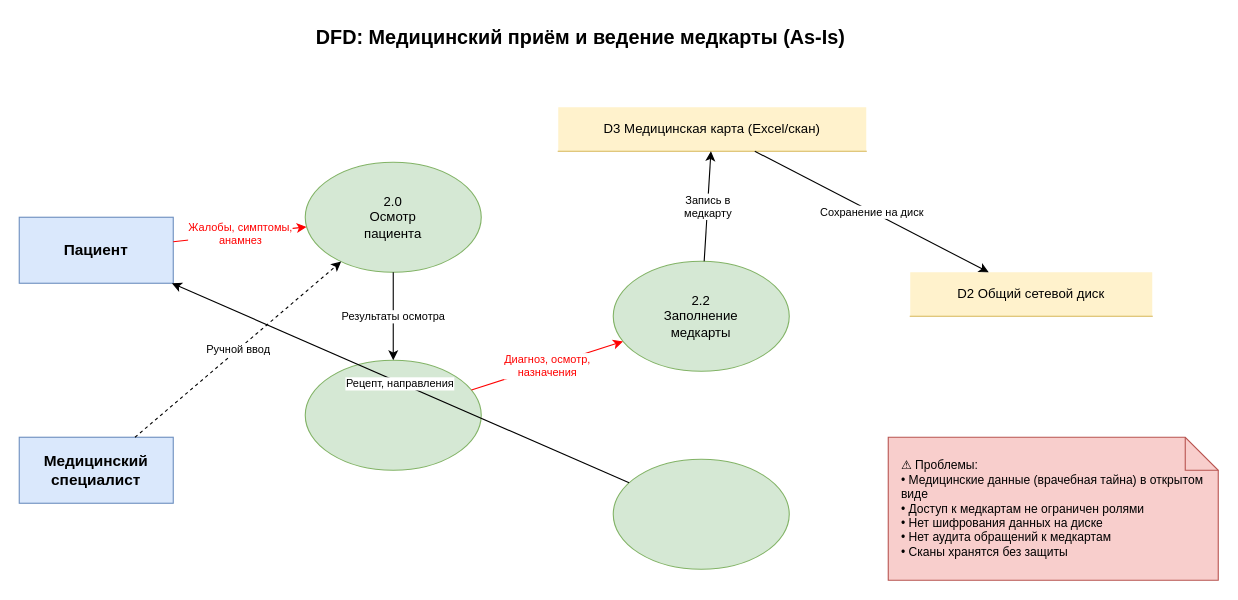
Some shapes in this 1238 by 600 pixel diagram are drawn without their labels. Here are the shapes that lost their labels. From the top down, the box of each, then its label:
(304, 359, 481, 470): 2.1 Постановка диагноза
(612, 458, 789, 569): 2.3 Назначение лечения
